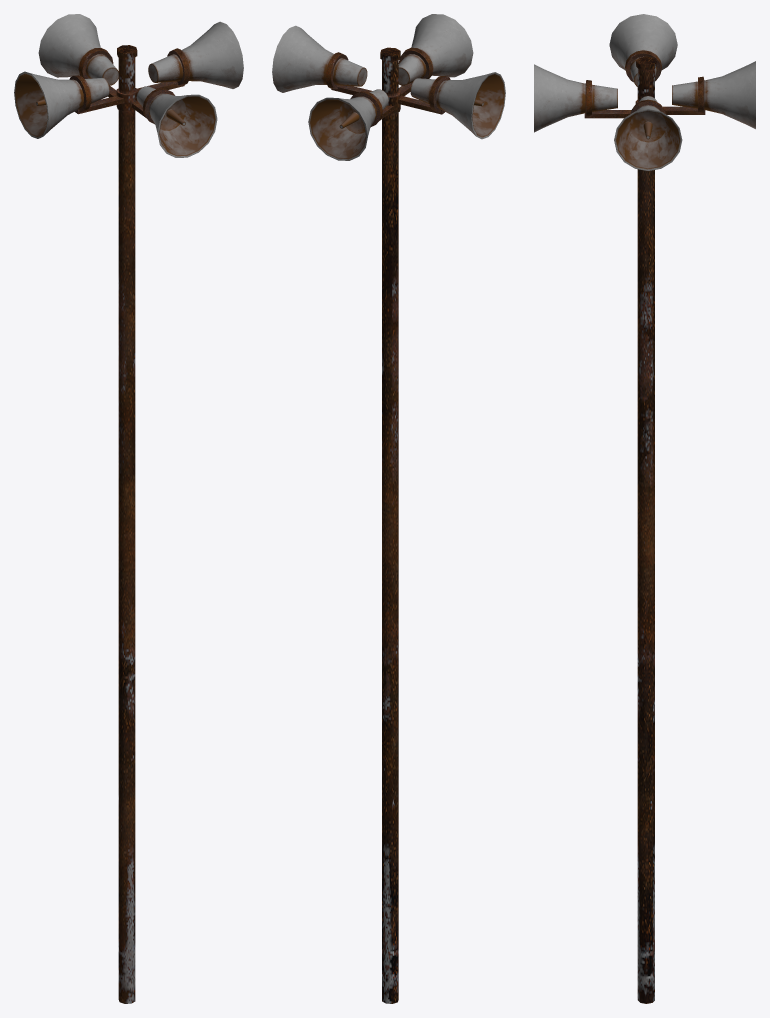
File: Speaker_Large.fbx
The picture shows the model from 3 angles, left to right: view 1: azimuth 30°, elevation 25°; view 2: azimuth 150°, elevation 25°; view 3: azimuth 270°, elevation 25°; orthographic projection.
Parts seen in each view (by area): view 1: Speaker_Large; view 2: Speaker_Large; view 3: Speaker_Large.
Part boxes in pixels (x1,y1,x2,y2): Speaker_Large: (14, 14, 243, 1003); Speaker_Large: (272, 14, 505, 1003); Speaker_Large: (534, 14, 755, 1003).
Size of the model in its own units: 0.8085 by 3.72 by 0.796.
